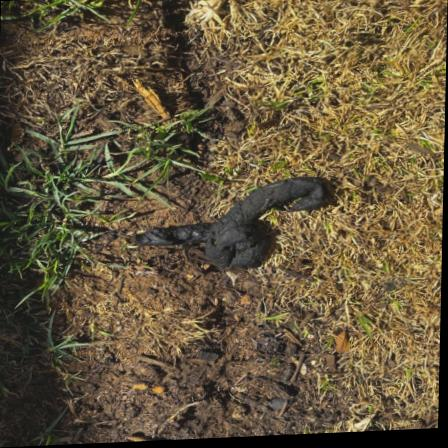dog-poop: (120, 174, 338, 293)
